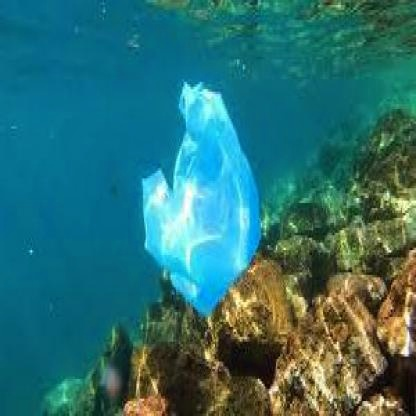pbag: (140, 79, 262, 322)
